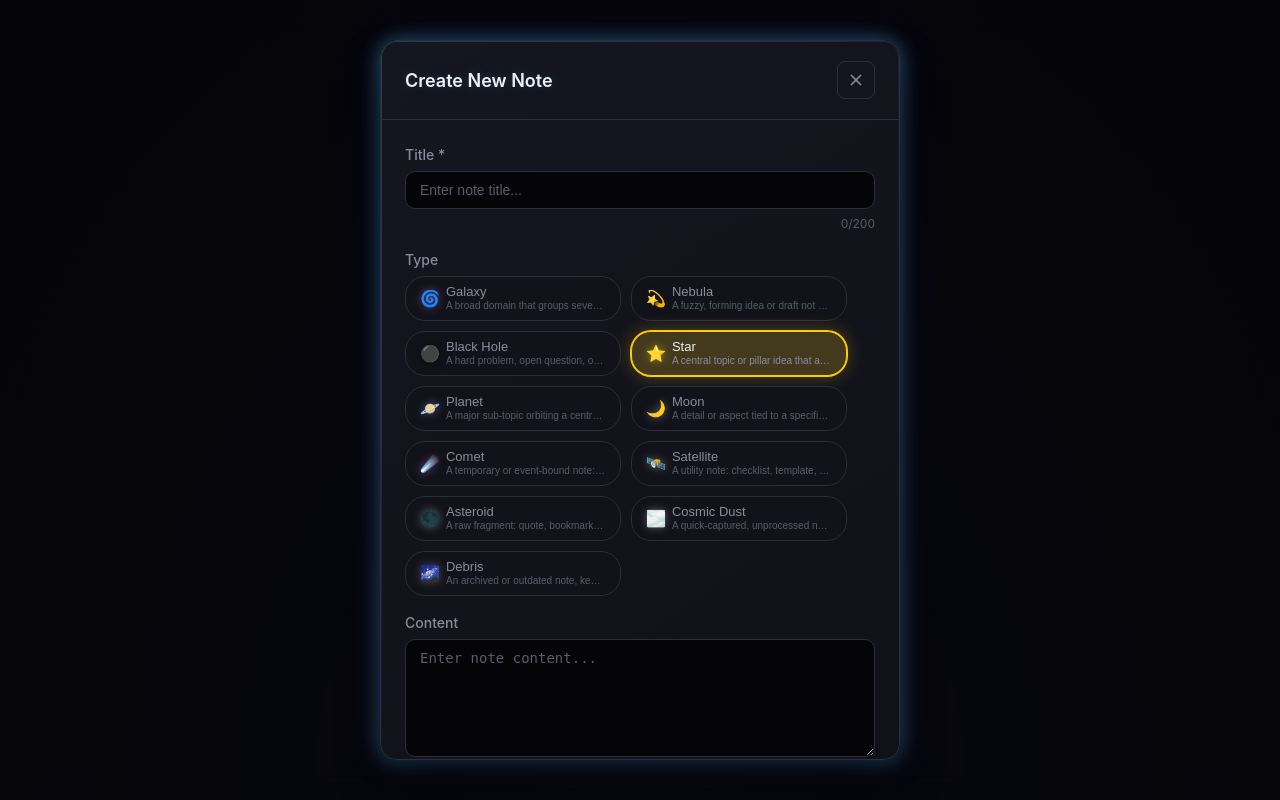
Test case: CreateNoteModal › shows validation error when title is empty
The width and height of the screenshot is (1280, 800).
Clear the field with placeholder "Enter note title..." at (640, 190), box [405,171,875,209]
(page scrolled)
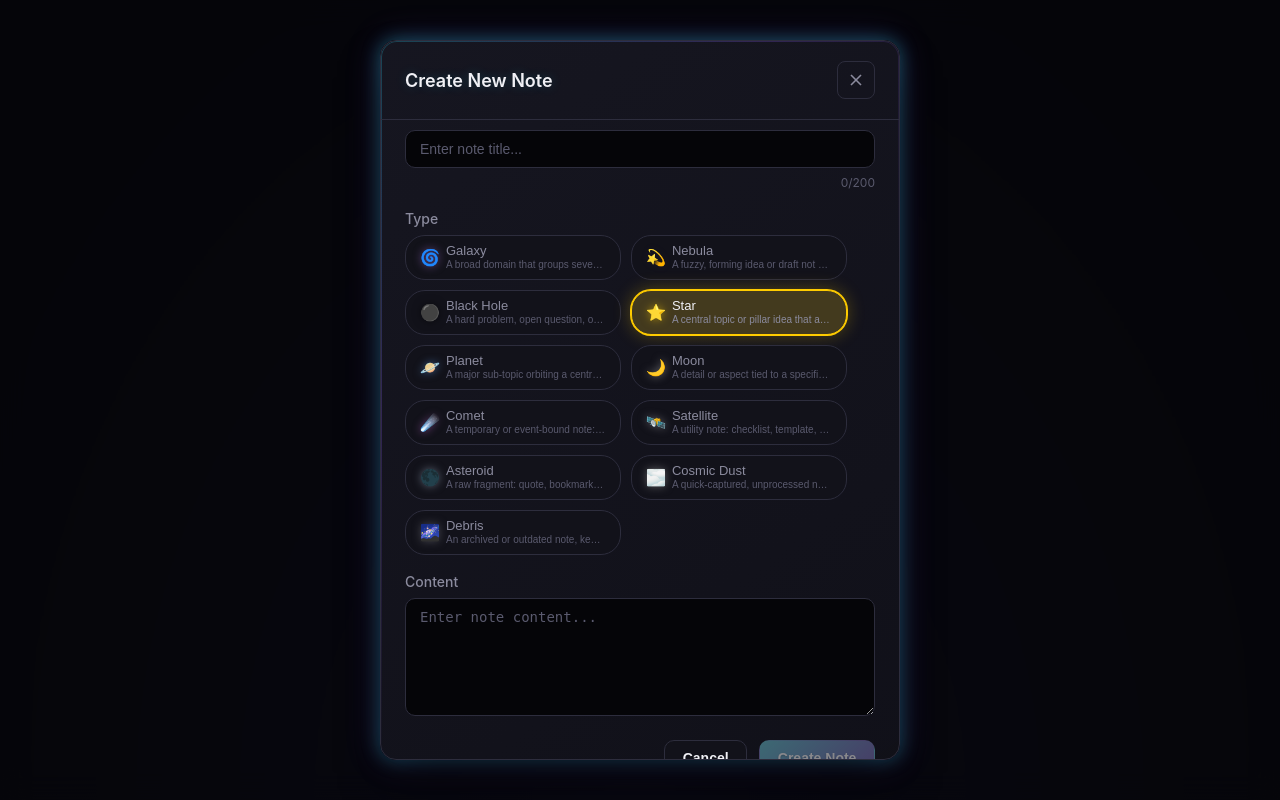
Submit the form, box [405,103,875,776]
(page scrolled)
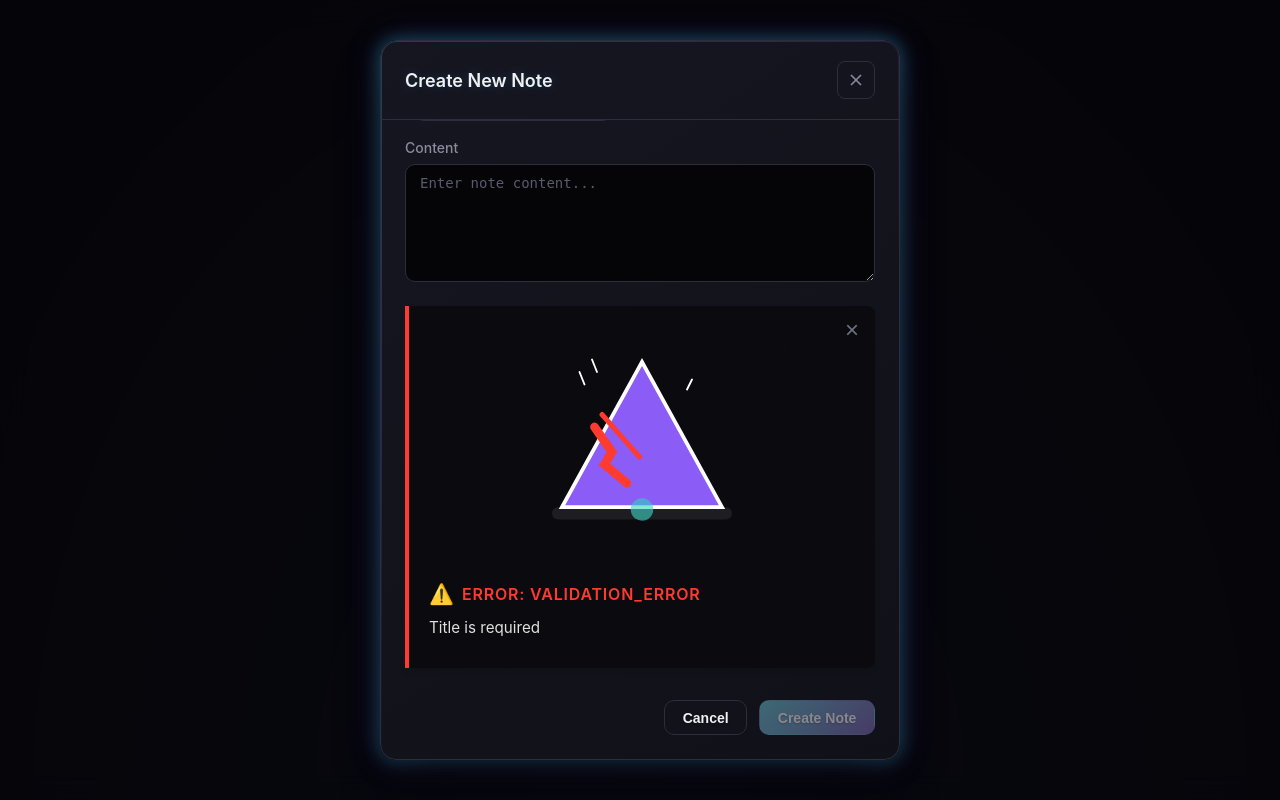
Check: the text "Title is required" is shown, box [429,618,540,637]
